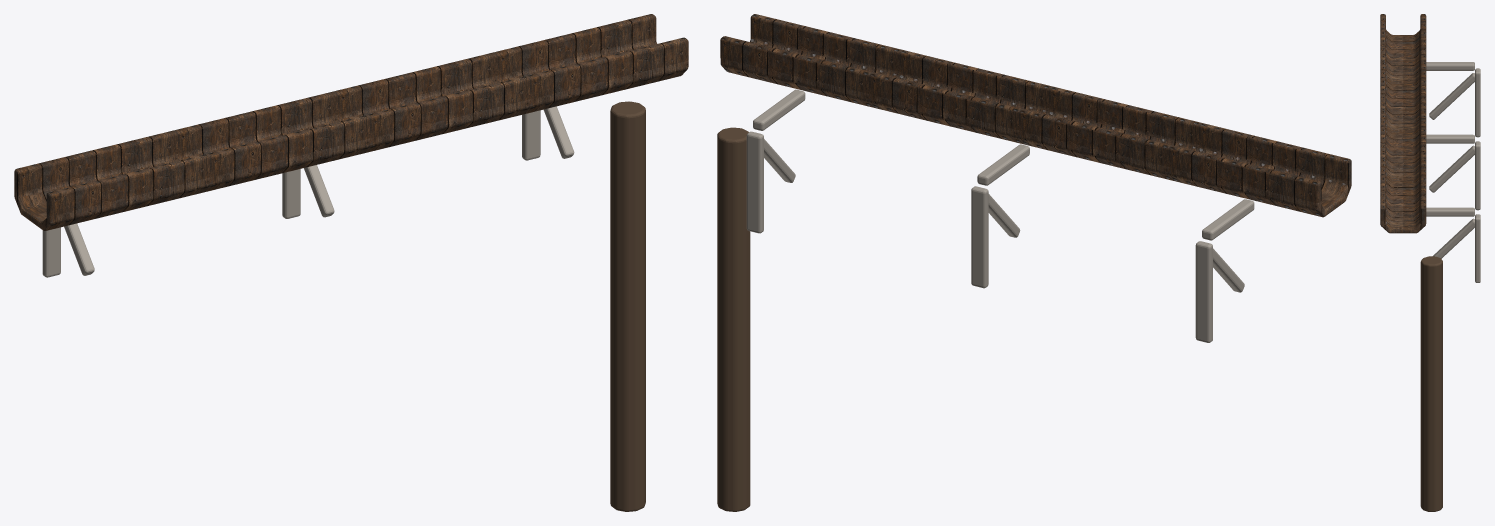
Rendered from wooden-gutter-v01.glb.
3 renders of one model, left to right at view 1: azimuth 30°, elevation 25°; view 2: azimuth 150°, elevation 25°; view 3: azimuth 270°, elevation 25°, orthographic. The views are drawn at different scales.
Visible parts, largest first — view 1: wooden-gutter; view 2: wooden-gutter; view 3: wooden-gutter.
Part boxes in pixels (left/top/right/bottom): wooden-gutter: left=14, top=14, right=688, bottom=511; wooden-gutter: left=717, top=14, right=1351, bottom=511; wooden-gutter: left=1380, top=14, right=1480, bottom=511.
Bounding box in the file's own units: 3.2 × 2.35 × 0.7.
2 materials, 2 textured.
